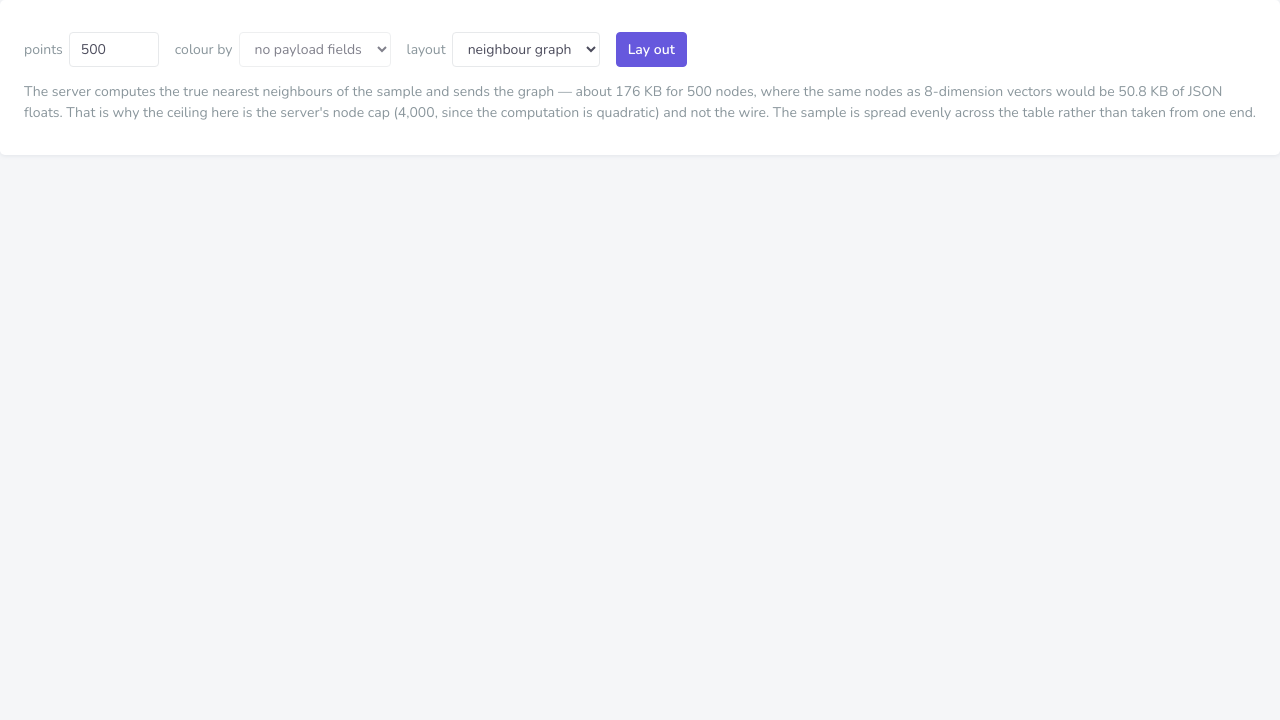
it: the neighbour-graph layout › asks for the graph and never for the vectors
Step 1. Click the button "Lay out" → (651, 50), box left=616, top=32, right=687, bottom=67
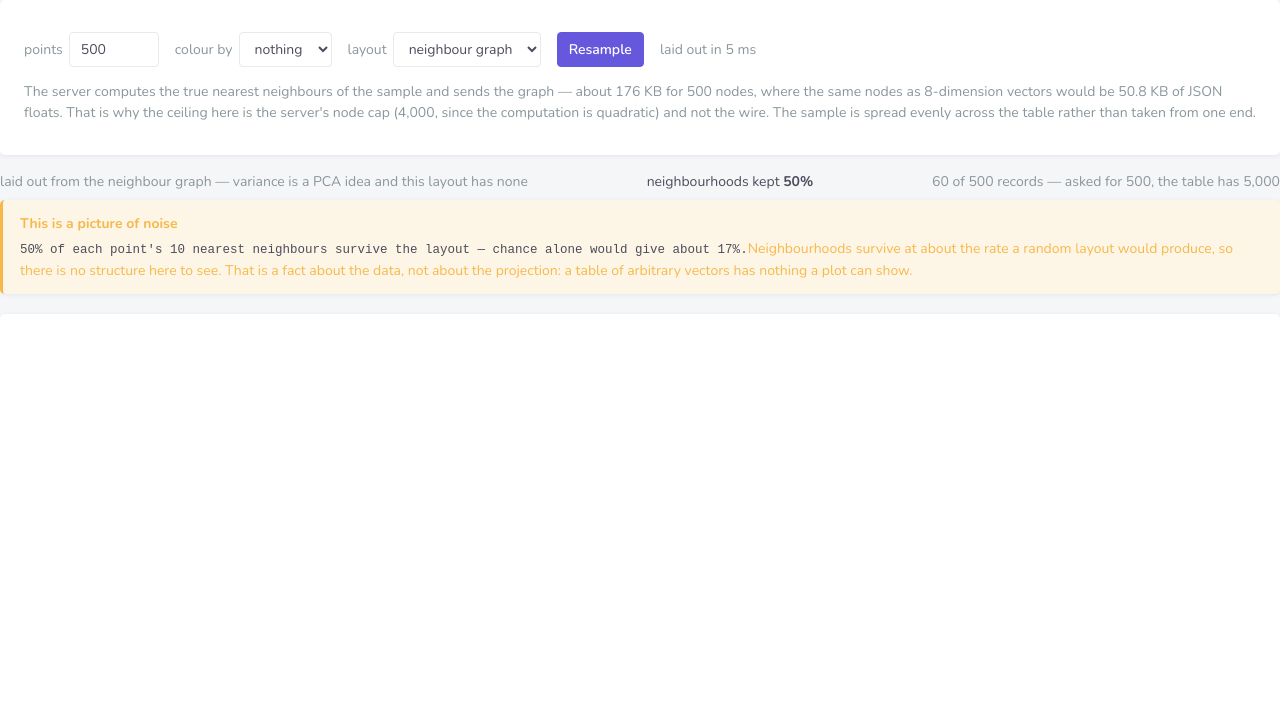
Check: the text "neighbourhoods kept 50%" is shown, box left=647, top=171, right=813, bottom=192
Check: the text "variance is a PCA idea" is shown, box left=0, top=172, right=528, bottom=191
